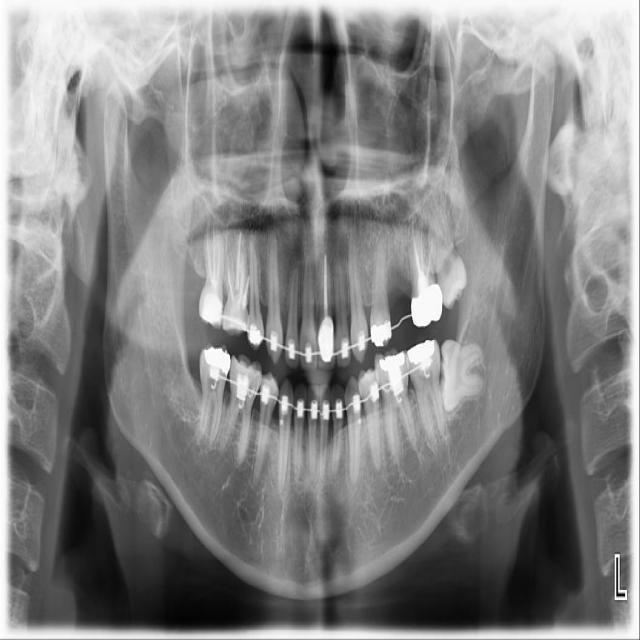52: (401, 337, 449, 388), (370, 344, 416, 395), (195, 341, 234, 392), (407, 283, 447, 330), (217, 294, 255, 340), (197, 283, 225, 331), (316, 326, 336, 371)
73: (404, 210, 440, 290), (220, 231, 255, 308), (317, 251, 338, 327), (204, 220, 225, 295), (591, 520, 597, 549)
BioHorizons Implant: (418, 194, 474, 311)
Biomet 3i Implant: (440, 339, 484, 412)
Blue Sky Bio Implant: (403, 338, 448, 444)
Caries: (198, 217, 226, 331)
Implant: (198, 342, 231, 446)
